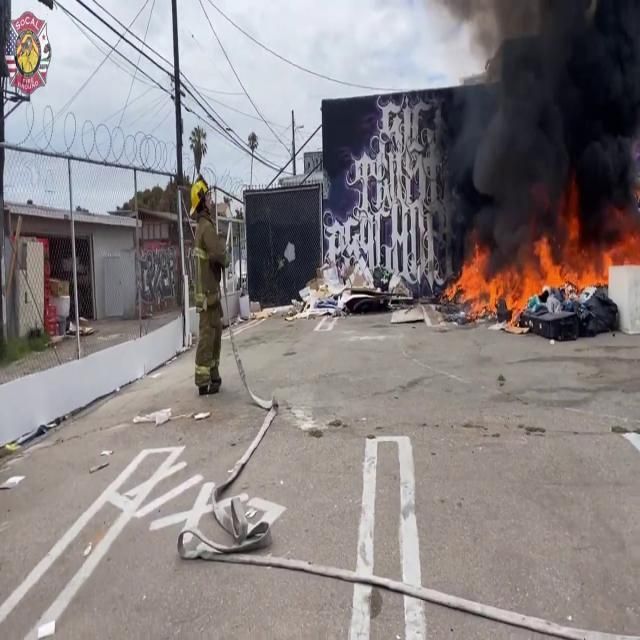Fire: (446, 201, 626, 324)
Smoke: (432, 1, 640, 232)
